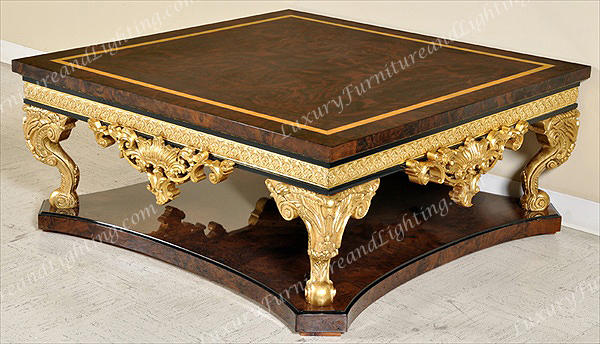Carving Table: (17, 21, 583, 334)
